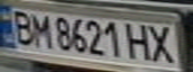1: (103, 19, 124, 58)
2: (84, 18, 106, 56)
6: (66, 16, 87, 55)
8: (51, 14, 72, 52)
B: (6, 8, 36, 46)
H: (124, 20, 154, 61)
M: (27, 11, 54, 48)
X: (145, 22, 181, 64)
